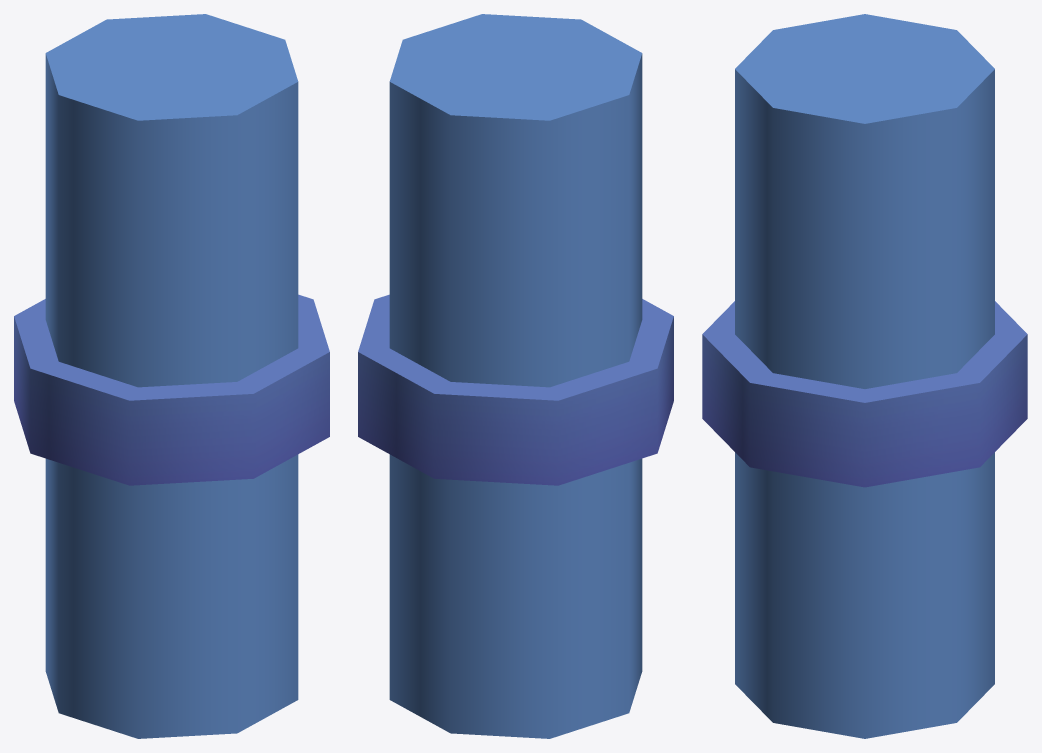
Rendered from kenney-coaster-support-large.glb.
3 views of the same model, side by side, from view 1: azimuth 30°, elevation 25°; view 2: azimuth 150°, elevation 25°; view 3: azimuth 270°, elevation 25° (orthographic).
Visible parts, largest first — view 1: support-large; view 2: support-large; view 3: support-large.
Boxes of the visible parts, x1=… form: support-large: x1=14, y1=14, x2=329, y2=738; support-large: x1=358, y1=14, x2=673, y2=738; support-large: x1=702, y1=14, x2=1027, y2=738.
Bounding box in the file's own units: 0.4794 × 1 × 0.4794.
1 material, 1 textured.
